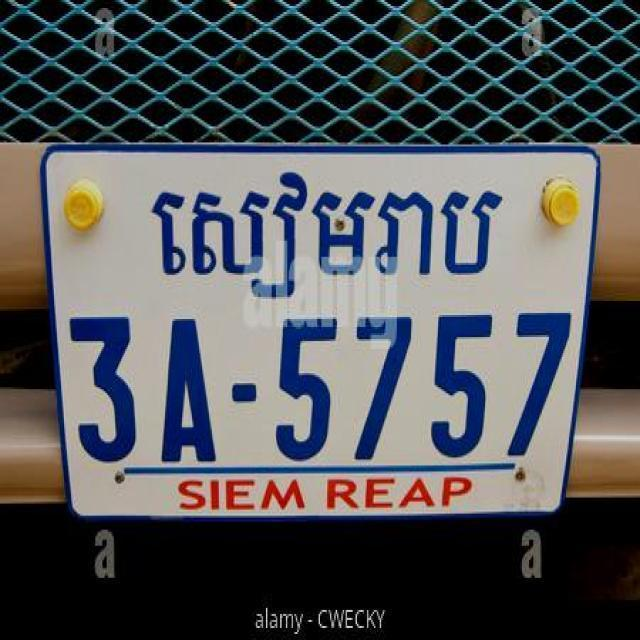Siem_Reap: (144, 169, 512, 304)
